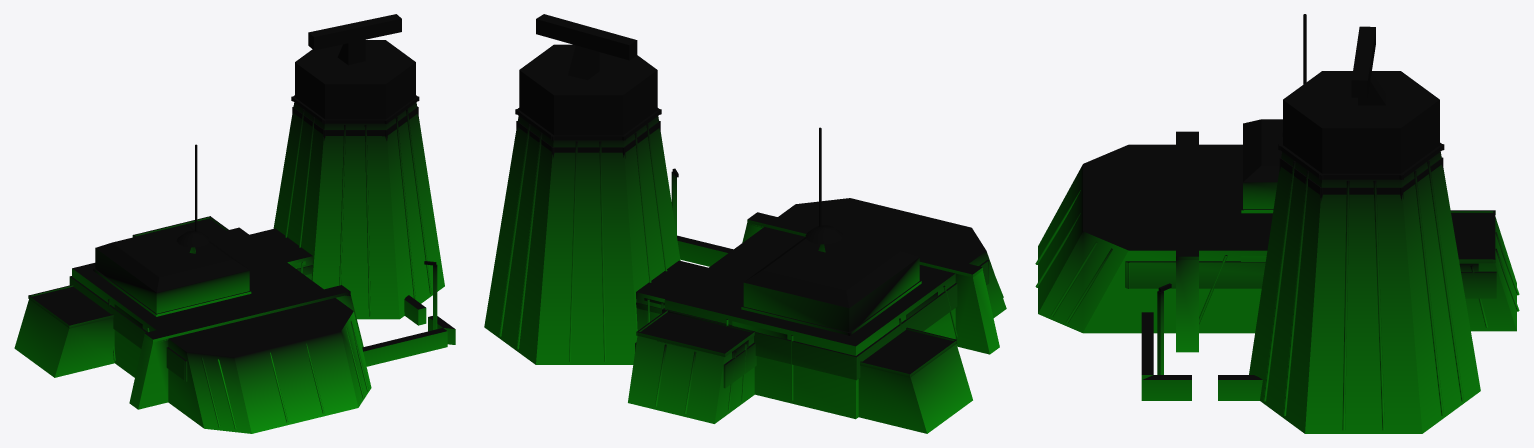
File: d_turretcontrol.glb
The picture shows the model from 3 angles, left to right: view 1: azimuth 30°, elevation 25°; view 2: azimuth 150°, elevation 25°; view 3: azimuth 270°, elevation 25°; orthographic projection. The views are drawn at different scales.
Visible parts, largest first — view 1: lod0_d_turretcontrol; view 2: lod0_d_turretcontrol; view 3: lod0_d_turretcontrol.
Boxes of the visible parts, x1=… form: lod0_d_turretcontrol: x1=14, y1=14, x2=455, y2=433; lod0_d_turretcontrol: x1=484, y1=14, x2=1006, y2=433; lod0_d_turretcontrol: x1=1035, y1=14, x2=1519, y2=433.
Bounding box in the file's own units: 24.17 × 15.49 × 20.12.
